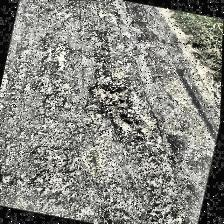pothole: (79, 68, 159, 148)
